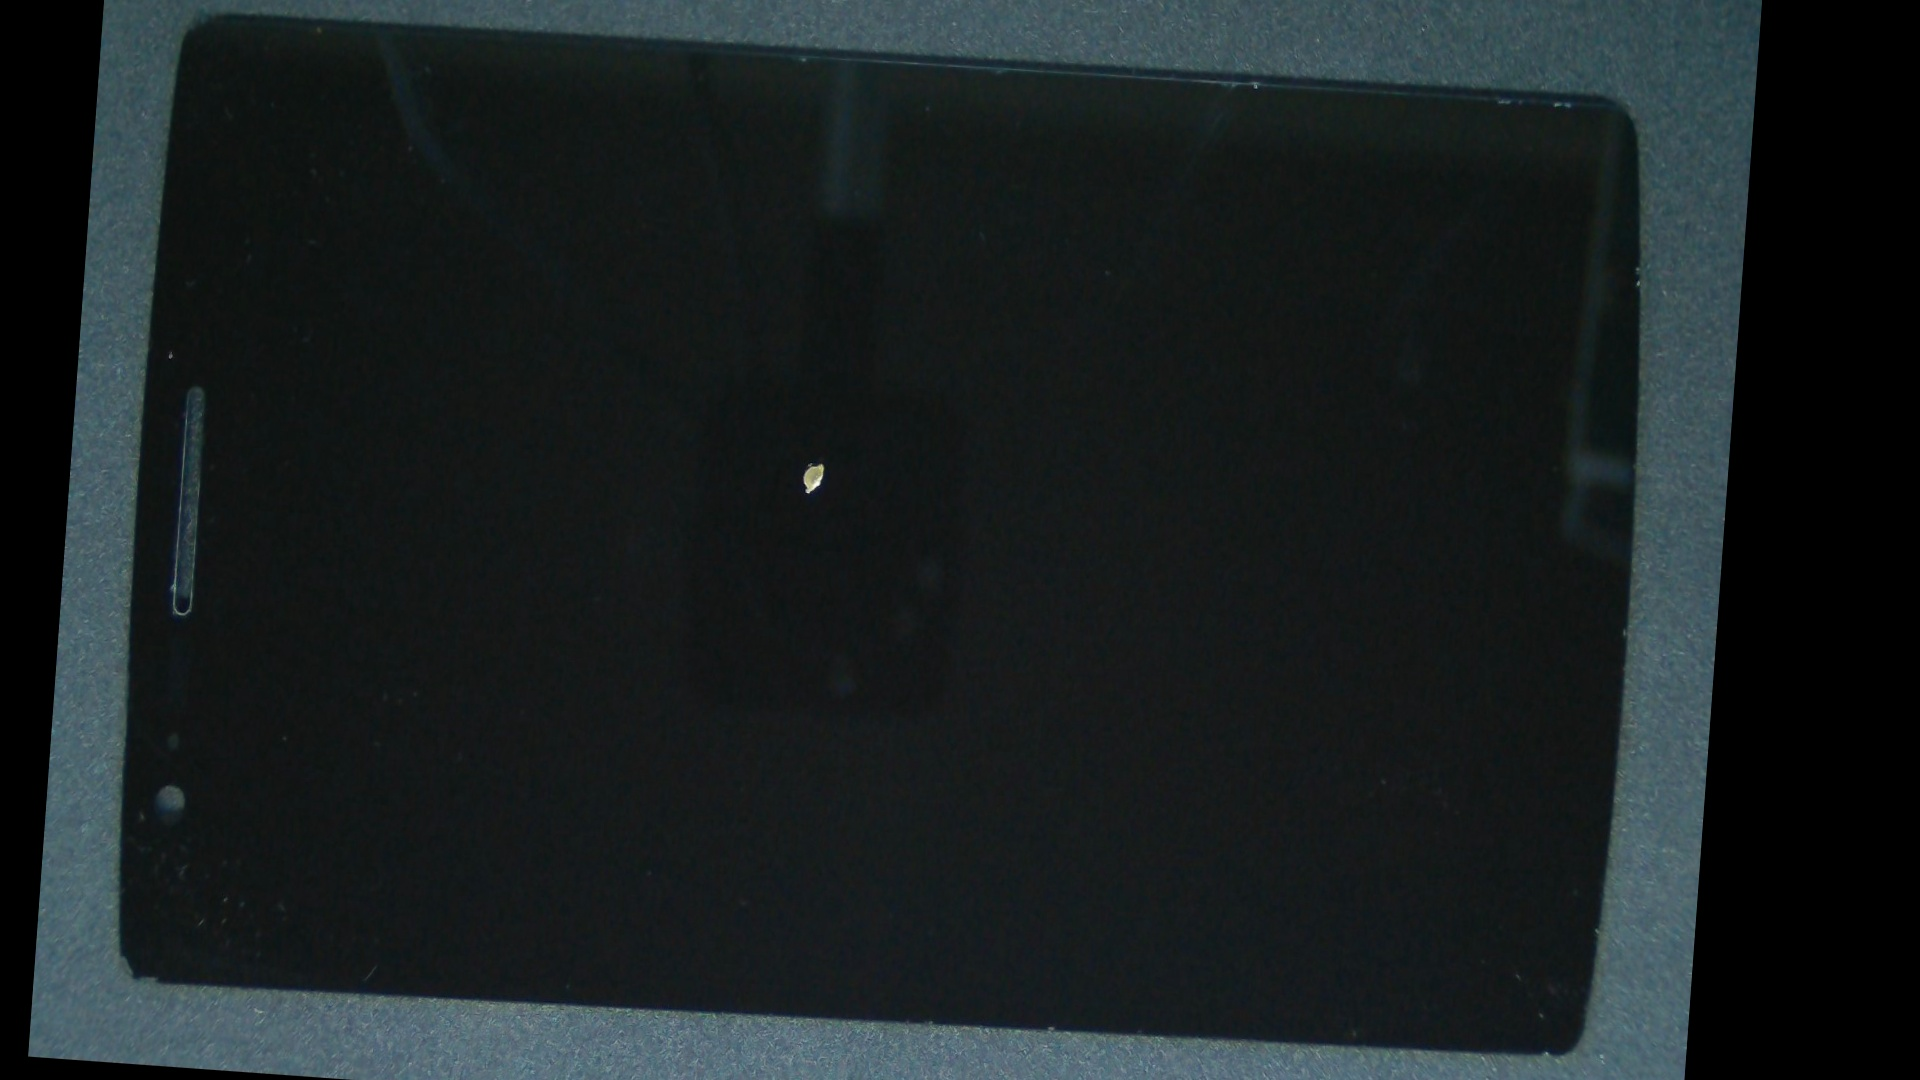oil: (429, 157, 1212, 764)
